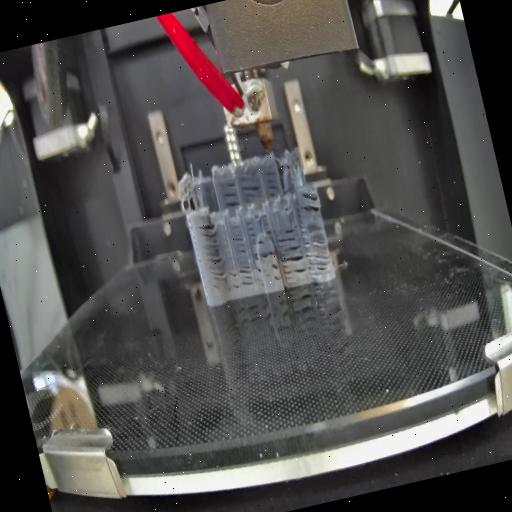cracks: (196, 219, 228, 286), (300, 222, 334, 276), (279, 244, 308, 282), (296, 186, 322, 216), (238, 172, 262, 204), (227, 222, 248, 258), (226, 263, 254, 290), (258, 167, 280, 200), (219, 180, 241, 210), (273, 222, 296, 248), (251, 248, 265, 284), (260, 212, 274, 238), (270, 262, 282, 284), (258, 248, 276, 261), (245, 218, 256, 238), (254, 238, 266, 248)
